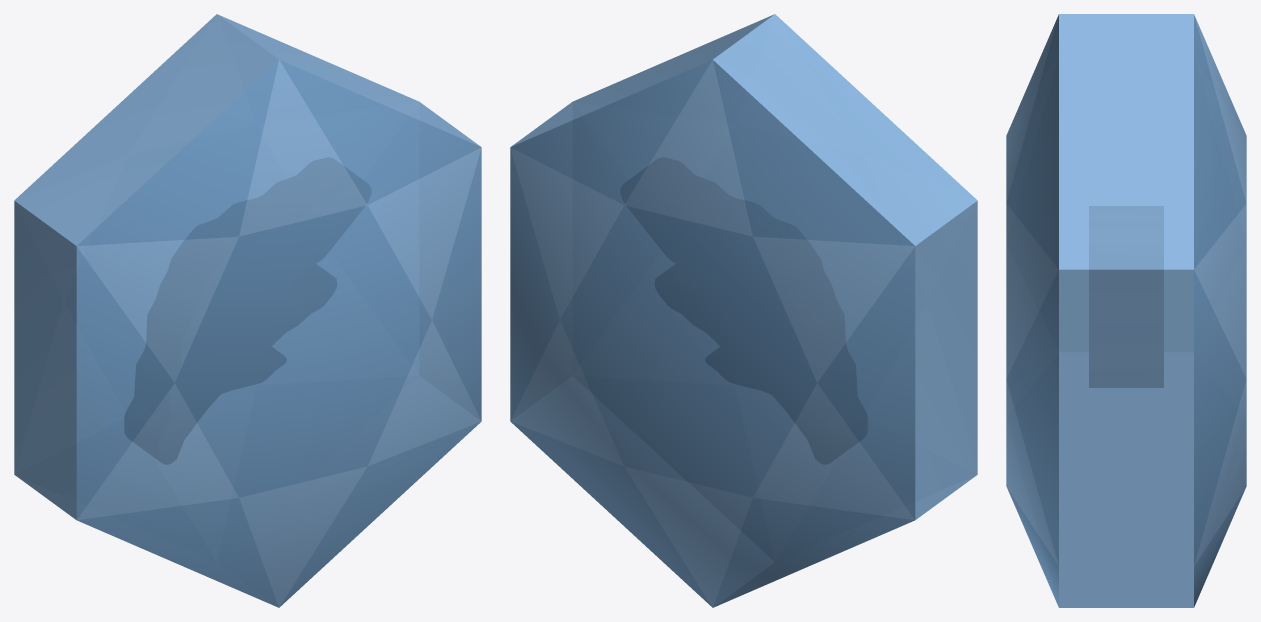
3 renders of one model, left to right at view 1: azimuth 30°, elevation 25°; view 2: azimuth 150°, elevation 25°; view 3: azimuth 270°, elevation 25°, orthographic. The views are drawn at different scales.
Parts seen in each view (by area): view 1: body; view 2: body; view 3: body.
Part boxes in pixels (bbox=[...]): body: bbox=[14, 14, 481, 607]; body: bbox=[510, 14, 977, 607]; body: bbox=[1006, 14, 1246, 607].
Size of the model in its own units: 0.1933 by 0.25 by 0.0916.
Materials: 2 (2 with a texture image).
